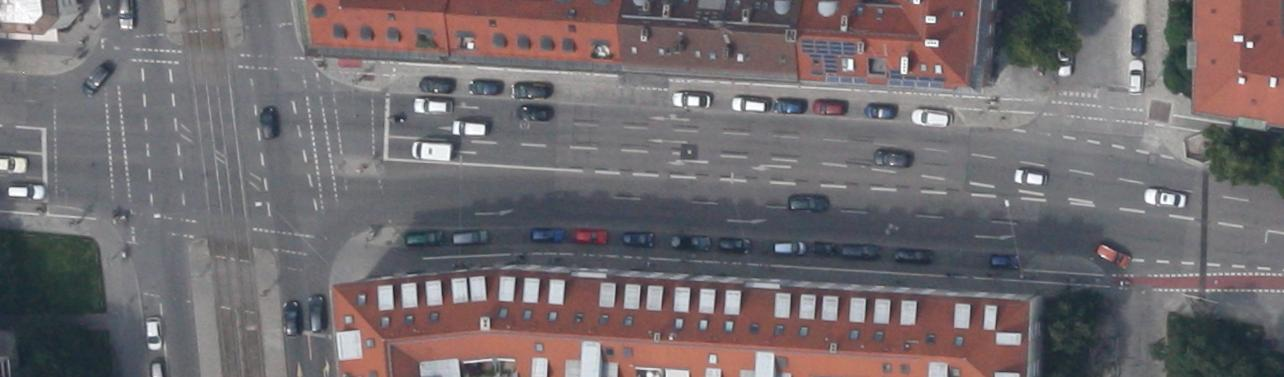car: (1143, 186, 1187, 210), (79, 64, 110, 97), (1096, 242, 1132, 270), (910, 107, 952, 128), (873, 148, 914, 168), (282, 300, 304, 336), (788, 193, 828, 212), (308, 295, 327, 332), (405, 230, 444, 248), (670, 234, 710, 251), (414, 97, 453, 114), (842, 243, 881, 260), (894, 247, 933, 264), (1013, 168, 1047, 187), (258, 106, 278, 138), (516, 104, 553, 121), (1056, 42, 1074, 76), (513, 82, 551, 98), (672, 92, 710, 108), (419, 77, 456, 93), (452, 120, 488, 136), (453, 230, 489, 246), (718, 236, 750, 254), (7, 185, 45, 200), (731, 97, 769, 112), (865, 102, 898, 119), (575, 228, 608, 245), (773, 239, 806, 256), (146, 316, 162, 350), (814, 98, 848, 114), (774, 97, 806, 114), (1128, 60, 1144, 94), (624, 230, 654, 248), (468, 79, 501, 95), (990, 253, 1020, 270), (531, 228, 564, 243), (1131, 24, 1146, 54), (814, 241, 836, 256)
